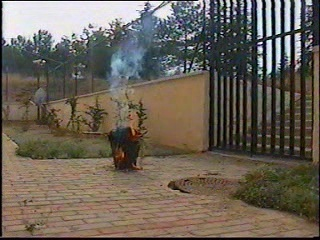smoke: (103, 27, 151, 100)
